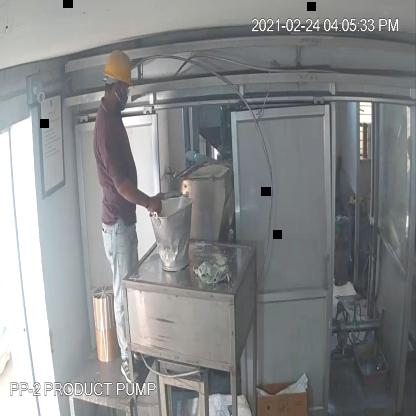helmet: (102, 47, 136, 92)
